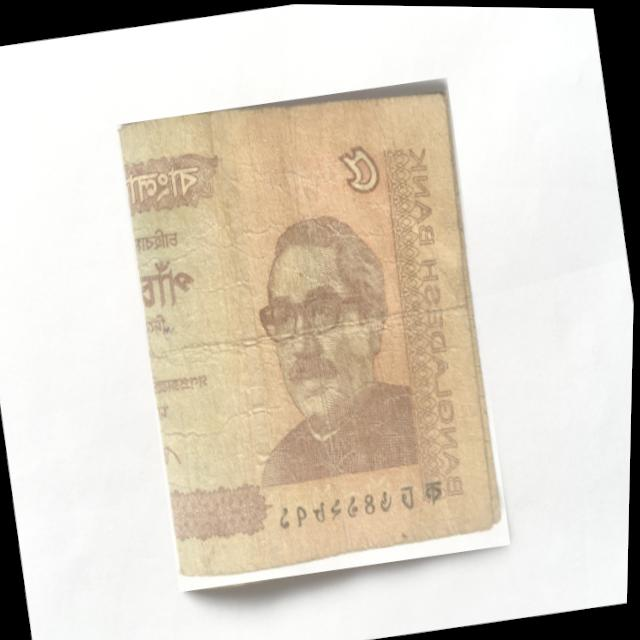Taka: (109, 72, 522, 595)
